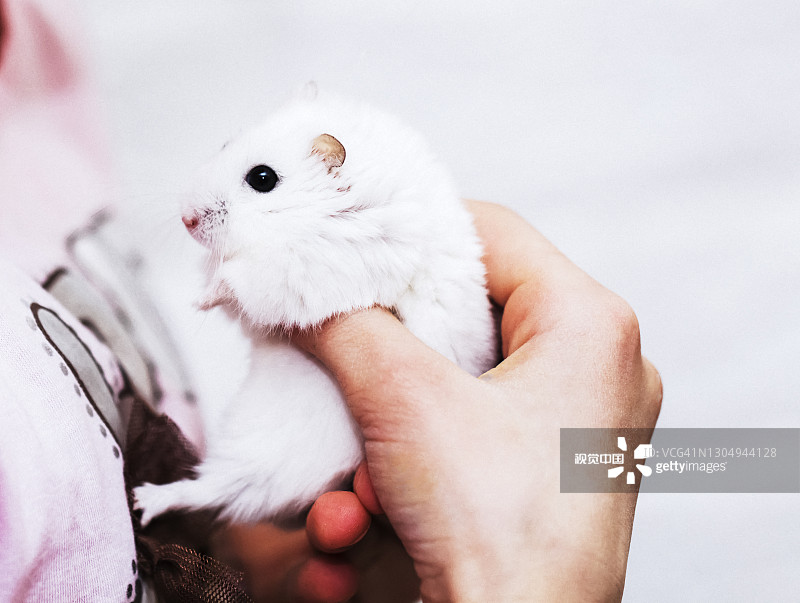no-phone: (212, 171, 674, 603)
